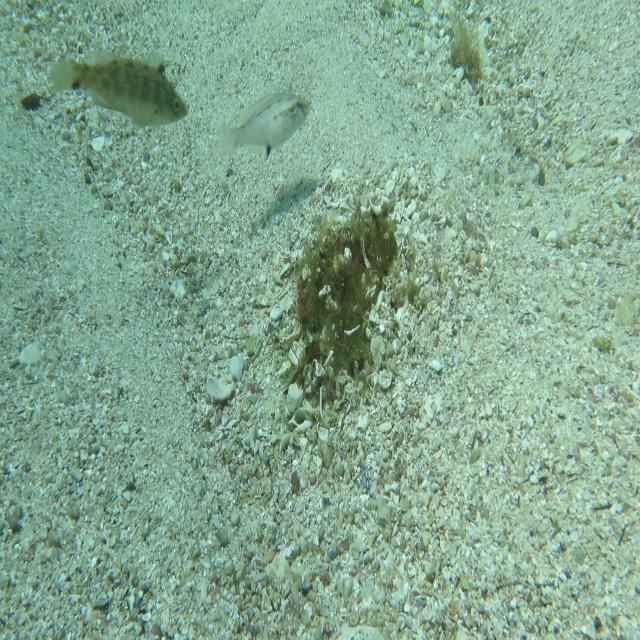CHASE_FLEE: (49, 46, 190, 134)
female: (214, 89, 314, 165)
nest: (272, 175, 417, 412)
